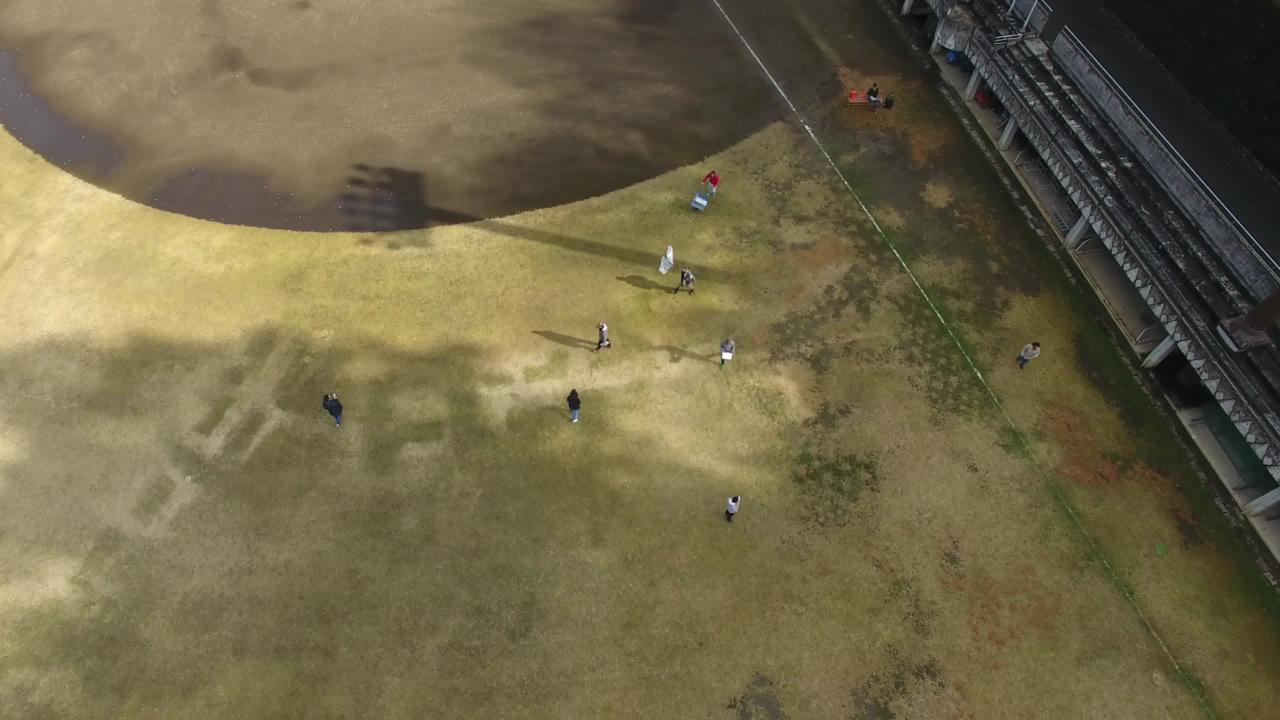person: (314, 384, 347, 448), (859, 66, 892, 130), (1015, 316, 1048, 380), (715, 473, 748, 537), (713, 318, 746, 382), (583, 304, 616, 368), (554, 378, 587, 442), (688, 151, 721, 215), (686, 149, 719, 213), (671, 251, 704, 315)
